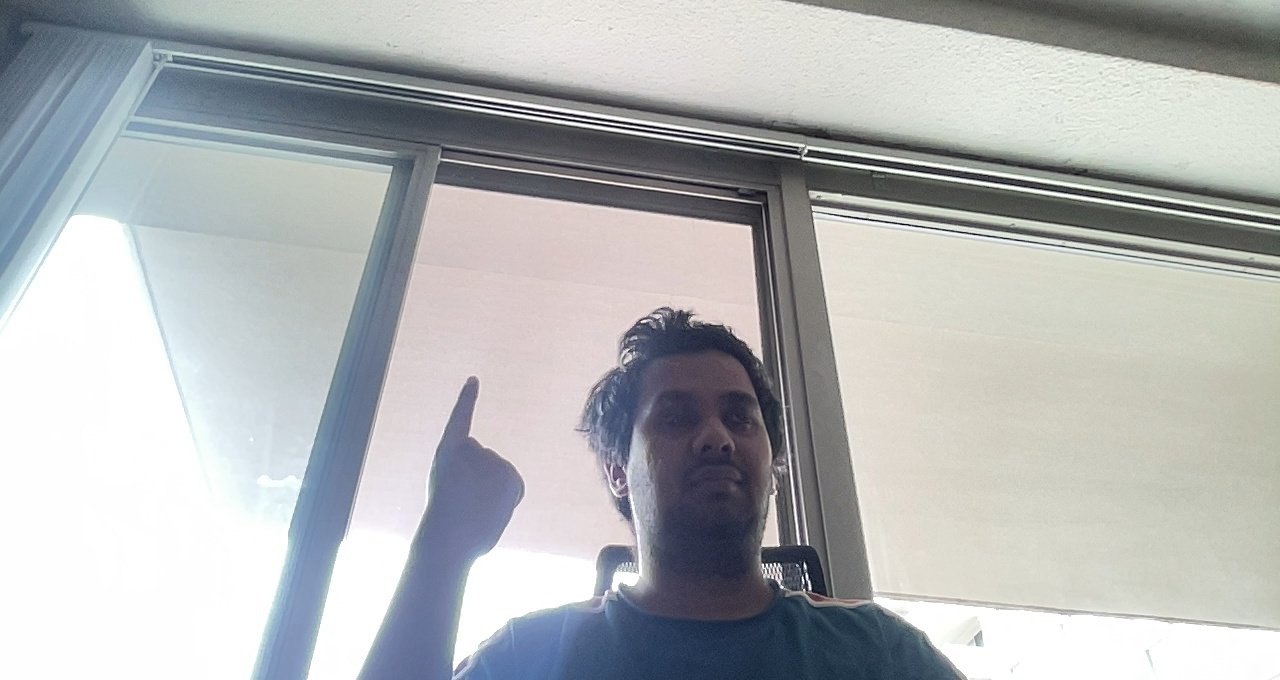fingerup: (420, 369, 531, 556)
